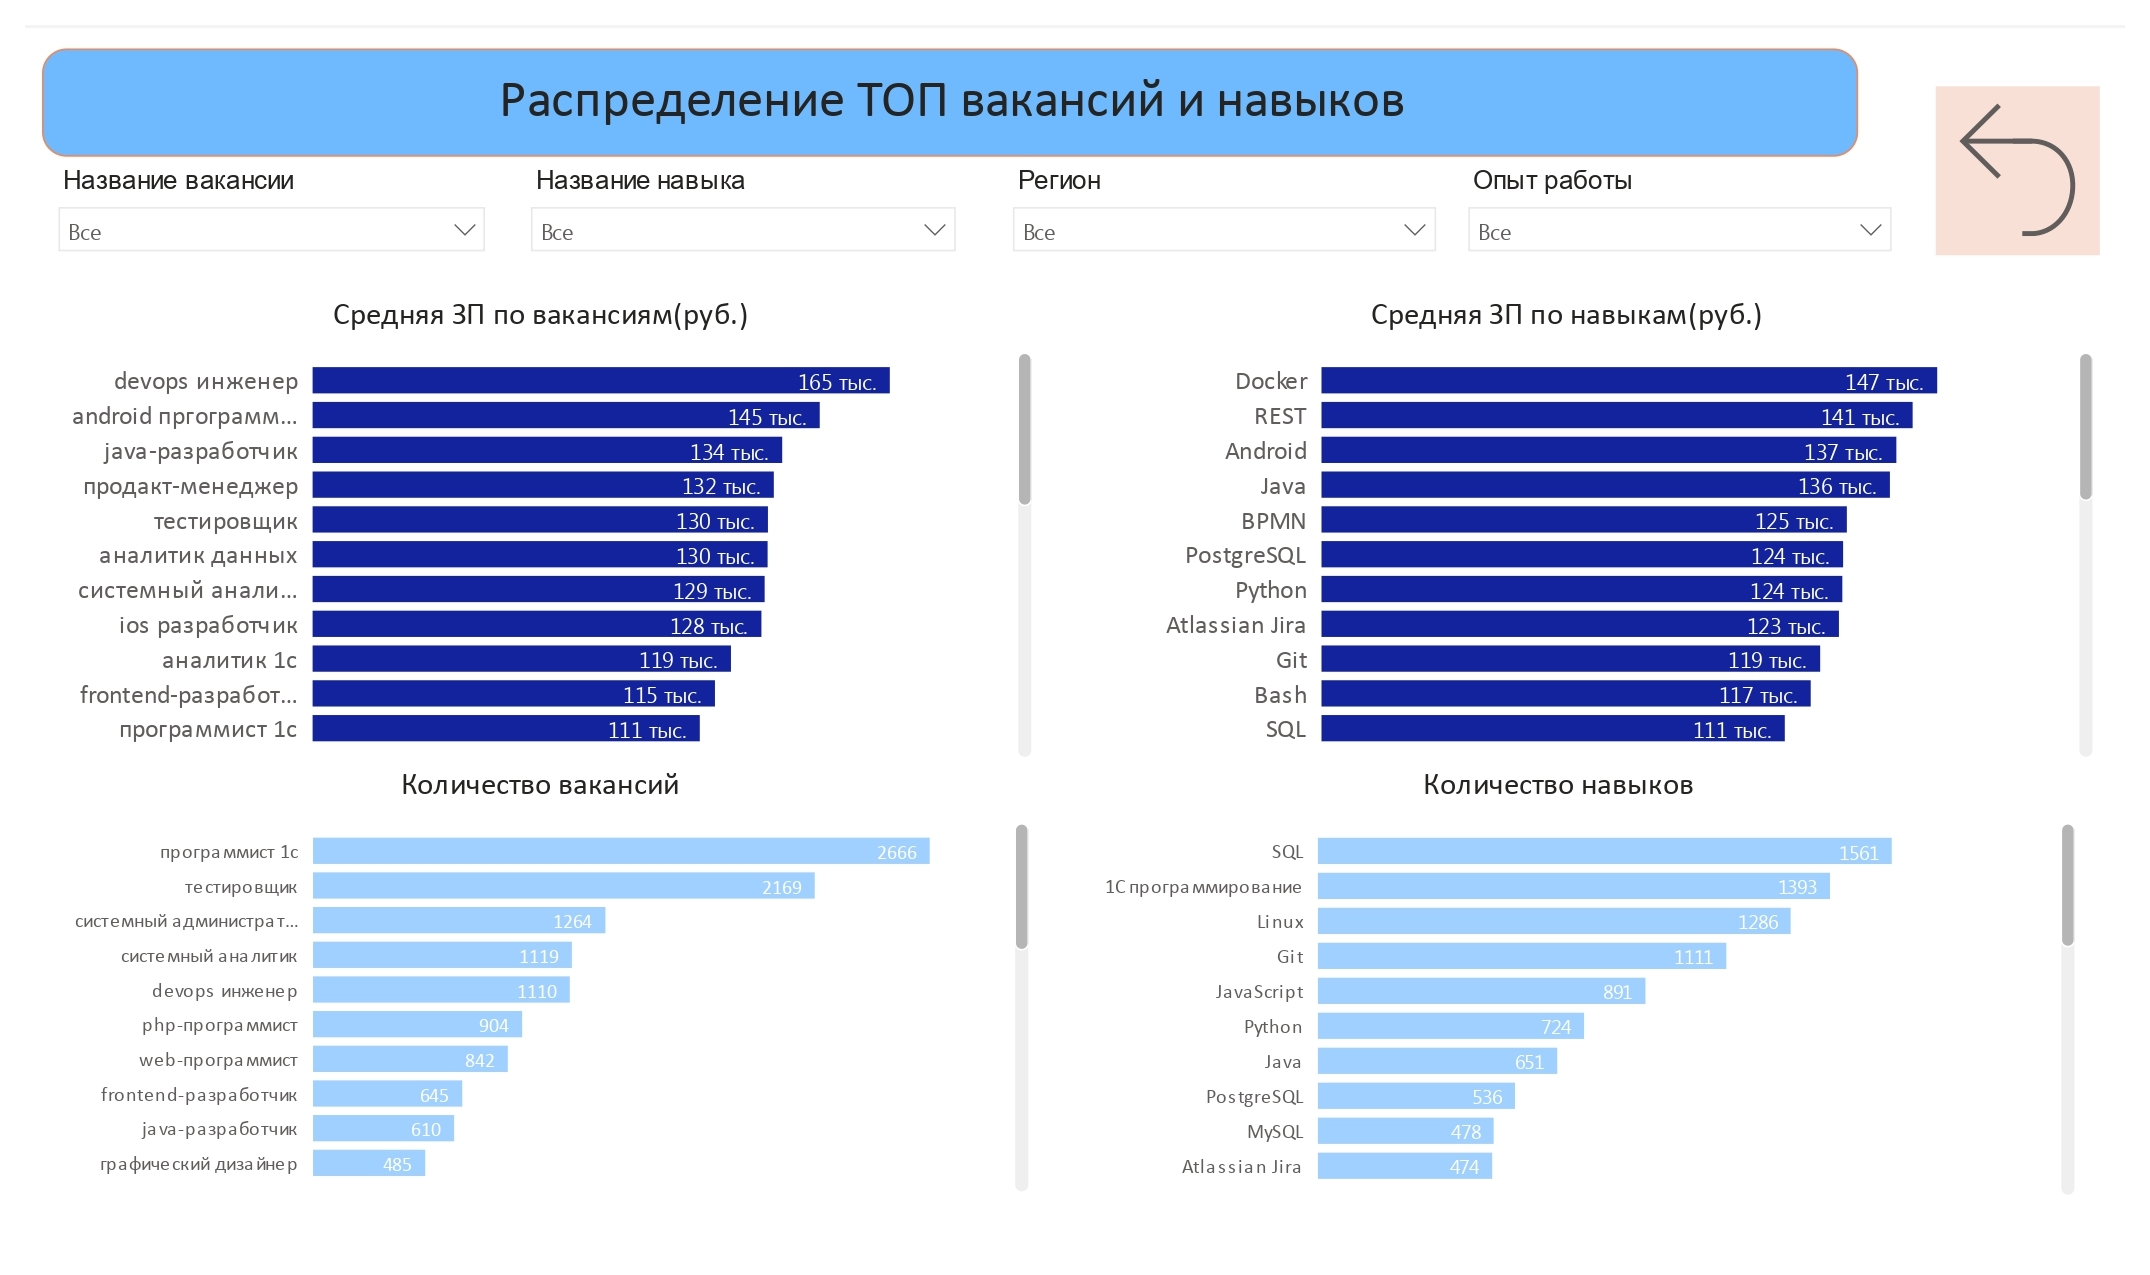

The page's visual inventory and layout, read from the dashboard file:
{"tool":"powerbi","page":{"name":"Дубликат по ЗП","canvas":[1280,720],"ordinal":0},"visuals":[{"type":"slicer","fields":{"Values":["дашборд_стажировка.name"]},"box":[10.4,65.7,279.9,74.9],"z":0},{"type":"slicer","fields":{"Values":["дашборд_стажировка.skills"]},"box":[298.4,65.7,278.8,74.9],"z":1000},{"type":"slicer","fields":{"Values":["дашборд_стажировка.region"]},"box":[592.1,65.7,277.6,74.9],"z":2000},{"type":"slicer","fields":{"Values":["дашборд_стажировка.experience"]},"box":[869.8,65.7,277.6,74.9],"z":3000},{"type":"clusteredBarChart","title":"Средняя ЗП по вакансиям(руб.)","fields":{"Category":["дашборд_стажировка.name"],"Y":["Avg(дашборд_стажировка.salary_min)"]},"box":[10.4,149.8,608.3,286.8],"z":4000},{"type":"clusteredBarChart","title":"Средняя ЗП по навыкам(руб.)","fields":{"Category":["дашборд_стажировка.skills"],"Y":["Avg(дашборд_стажировка.salary_min)"]},"box":[615.2,149.8,649.7,286.8],"z":5000},{"type":"barChart","title":"Количество вакансий","fields":{"Y":["CountNonNull(дашборд_стажировка.name)"],"Category":["дашборд_стажировка.name"]},"box":[11.5,436.6,604.8,265],"z":6000},{"type":"barChart","title":"Количество навыков","fields":{"Category":["дашборд_стажировка.skills"],"Y":["CountNonNull(дашборд_стажировка.skills)"]},"box":[615.2,436.6,639.4,267.3],"z":7000},{"type":"actionButton","box":[1164.7,23,100.2,117.5],"z":8000},{"type":"textbox","box":[10.4,0,1107.1,65.7],"z":9000}]}

Visuals, with their boxes on the page's 1280x720 design canvas (x1, y1, x2, y2). These are canvas units, not pixel positions in the 2150x1275 screenshot, which may show the page scaled, cropped or inside an application window:
slicer - дашборд_стажировка.name: 10/66/290/141
slicer - дашборд_стажировка.skills: 298/66/577/141
slicer - дашборд_стажировка.region: 592/66/870/141
slicer - дашборд_стажировка.experience: 870/66/1147/141
"Средняя ЗП по вакансиям(руб.)" clusteredBarChart: 10/150/619/437
"Средняя ЗП по навыкам(руб.)" clusteredBarChart: 615/150/1265/437
"Количество вакансий" barChart: 12/437/616/702
"Количество навыков" barChart: 615/437/1255/704
actionButton: 1165/23/1265/140
textbox: 10/0/1118/66
